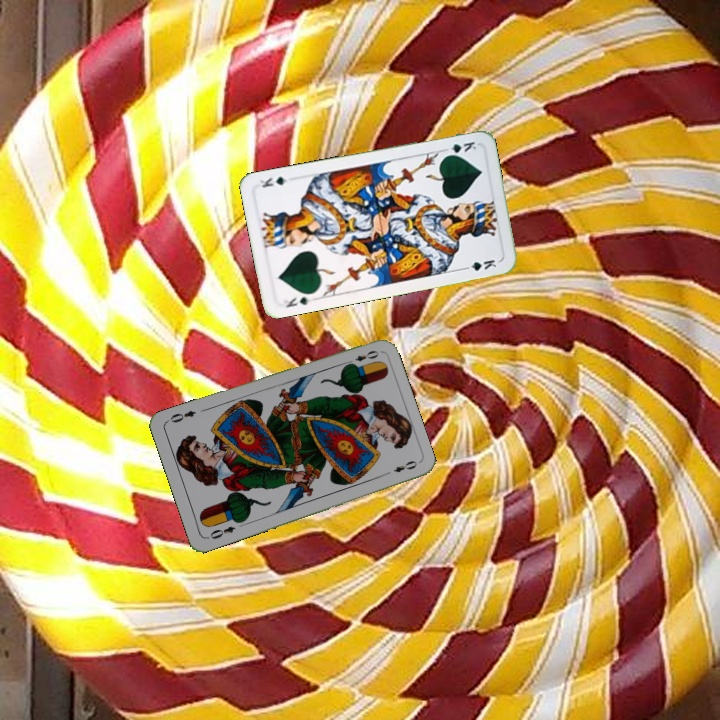EO: (342, 346, 381, 368), (206, 522, 238, 542)
GK: (439, 137, 479, 159), (281, 293, 314, 310)
